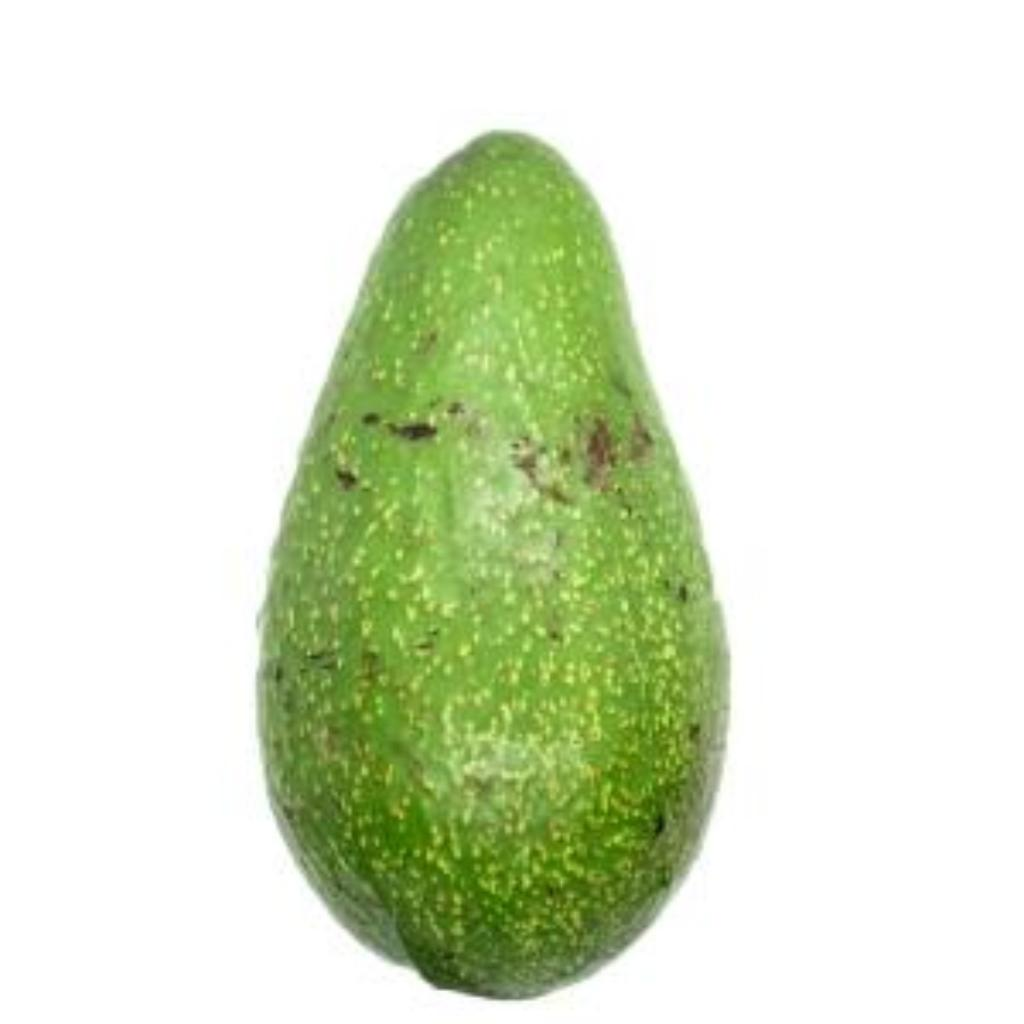cercospora_spot: (247, 124, 725, 998)
